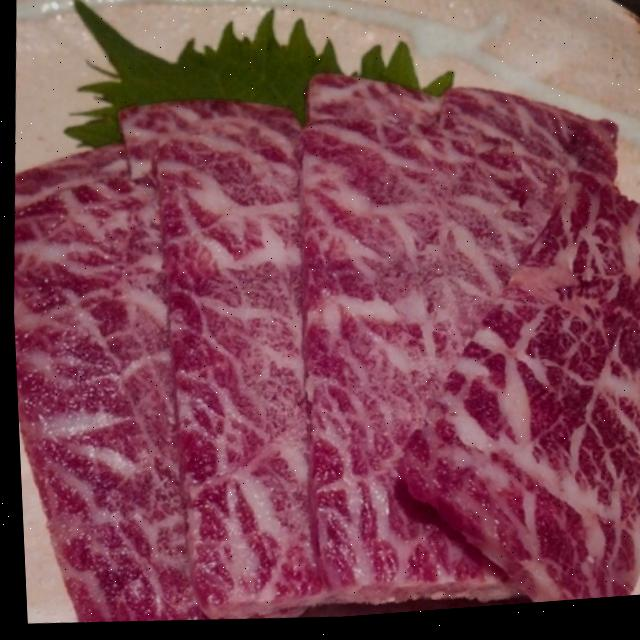刺身生食: (2, 26, 640, 640)
